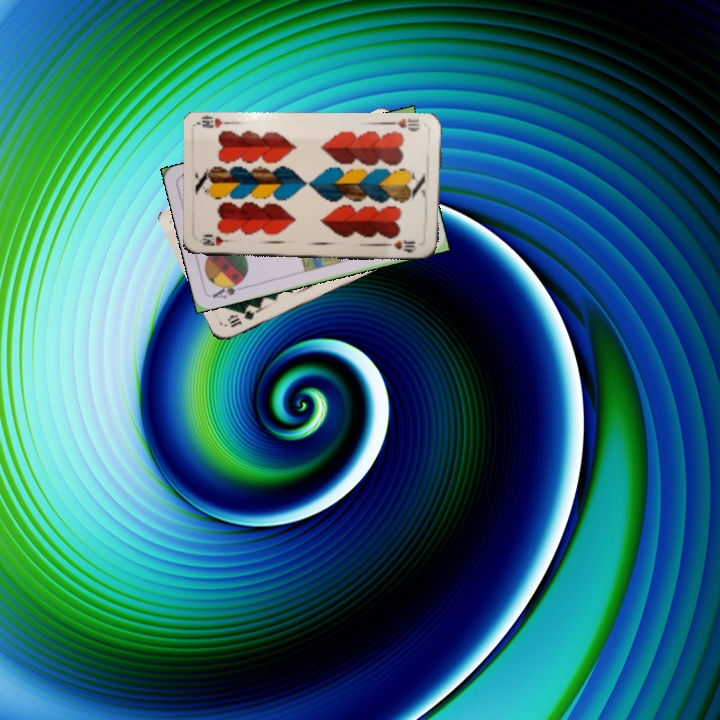G10: (224, 302, 261, 330)
H10: (386, 115, 422, 134), (199, 235, 238, 248)
SA: (208, 276, 248, 301)
